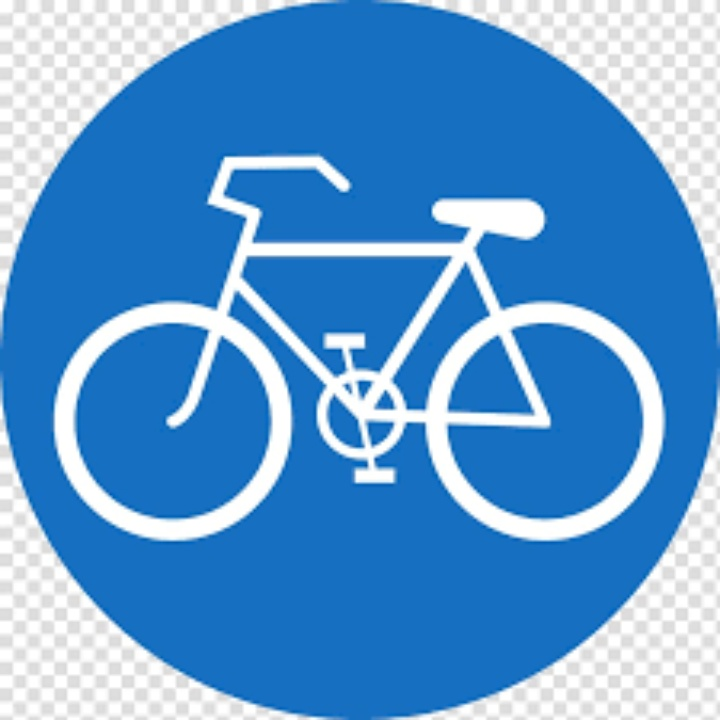bicycle: (49, 73, 668, 692)
